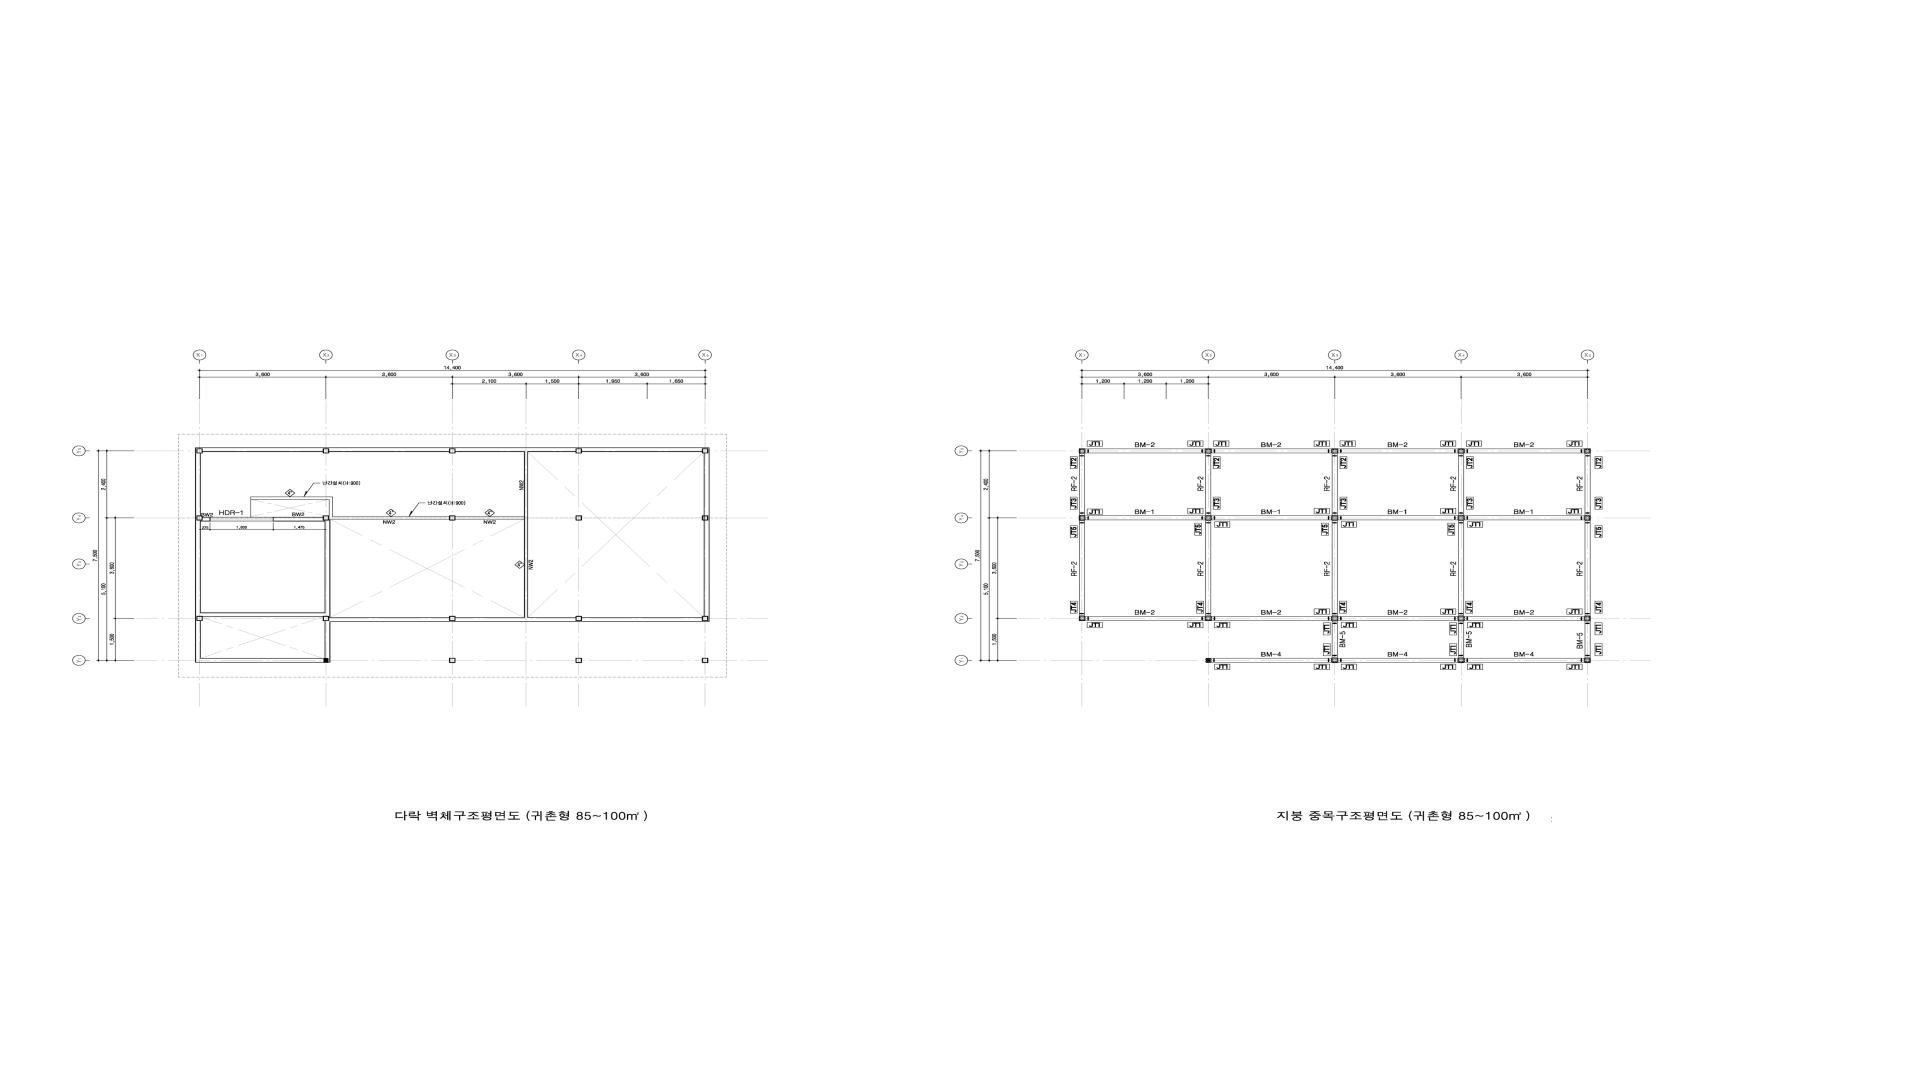door: (211, 517, 273, 522)
wall: (196, 447, 323, 452), (323, 447, 450, 452), (575, 447, 702, 452), (582, 617, 708, 622), (455, 617, 582, 622), (1205, 658, 1332, 663), (450, 447, 575, 452), (331, 617, 455, 622), (324, 520, 331, 618), (524, 452, 527, 617), (200, 658, 323, 663), (1464, 658, 1585, 663), (1464, 448, 1585, 454), (1464, 616, 1585, 621), (1211, 516, 1332, 521), (1337, 516, 1458, 521), (1464, 516, 1585, 521), (203, 612, 323, 617), (1338, 658, 1458, 663), (1338, 616, 1458, 621), (1212, 616, 1332, 621), (1085, 616, 1205, 621), (1085, 516, 1205, 521), (1085, 448, 1205, 454), (1212, 448, 1332, 454), (1338, 448, 1458, 454), (1079, 521, 1085, 616), (1205, 521, 1212, 616), (195, 521, 200, 621), (704, 516, 709, 616), (1585, 521, 1590, 616), (1332, 521, 1337, 616), (1458, 521, 1464, 616), (1079, 454, 1085, 516), (195, 454, 200, 521), (704, 448, 709, 516), (1585, 454, 1590, 516), (1205, 454, 1211, 516), (1332, 454, 1337, 516), (1458, 454, 1464, 516), (330, 517, 450, 520), (324, 618, 331, 663), (273, 517, 324, 522), (195, 621, 200, 663), (251, 497, 328, 500), (1585, 621, 1590, 658), (1458, 621, 1464, 658), (1332, 621, 1337, 658), (455, 517, 524, 520), (195, 517, 211, 522), (328, 497, 332, 517), (323, 616, 330, 621), (196, 616, 203, 621), (196, 516, 203, 521), (196, 448, 203, 454), (323, 448, 330, 454), (702, 448, 708, 454), (702, 616, 708, 621), (575, 616, 582, 621), (323, 516, 330, 521), (1332, 658, 1338, 663), (1458, 658, 1465, 663), (1205, 516, 1212, 521), (1079, 516, 1085, 521), (1079, 616, 1085, 621), (1205, 616, 1212, 621), (1332, 616, 1338, 621), (1079, 448, 1085, 454), (1205, 448, 1212, 454), (1332, 448, 1338, 454), (450, 448, 455, 454), (576, 448, 582, 454), (323, 658, 328, 663), (450, 616, 455, 621), (450, 516, 455, 521), (1585, 658, 1590, 663), (1585, 616, 1590, 621), (1585, 516, 1590, 521), (1585, 448, 1590, 454), (1458, 448, 1464, 454), (1458, 516, 1464, 521), (1332, 516, 1337, 521), (1458, 616, 1464, 621), (200, 612, 203, 616), (702, 447, 709, 448), (195, 447, 196, 454), (708, 616, 709, 622), (323, 612, 324, 616)
